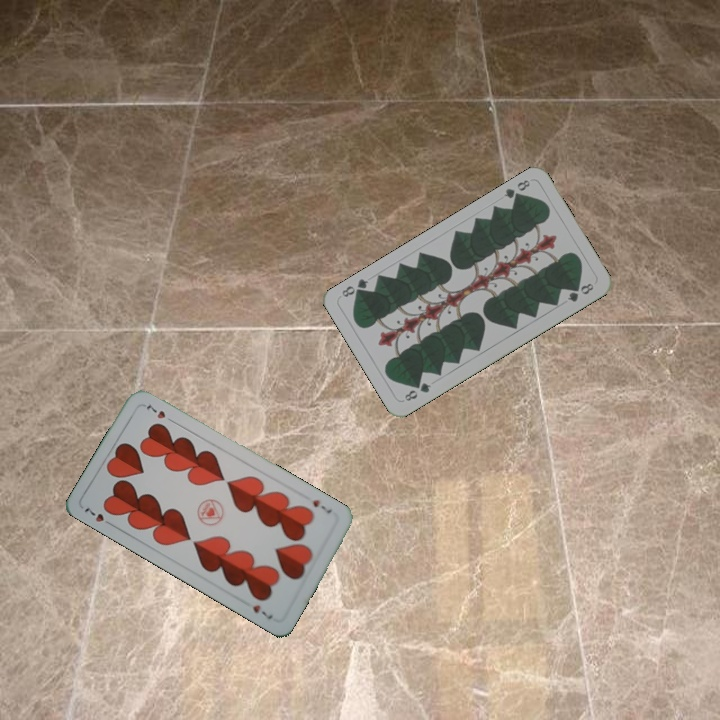G8: (500, 175, 533, 203), (400, 378, 434, 404)
H7: (80, 503, 116, 529), (309, 496, 335, 516)
